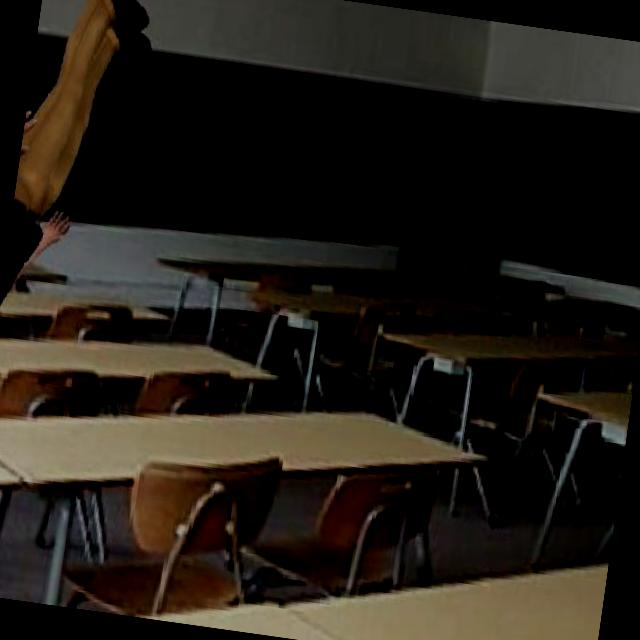Person: (0, 0, 162, 330)
